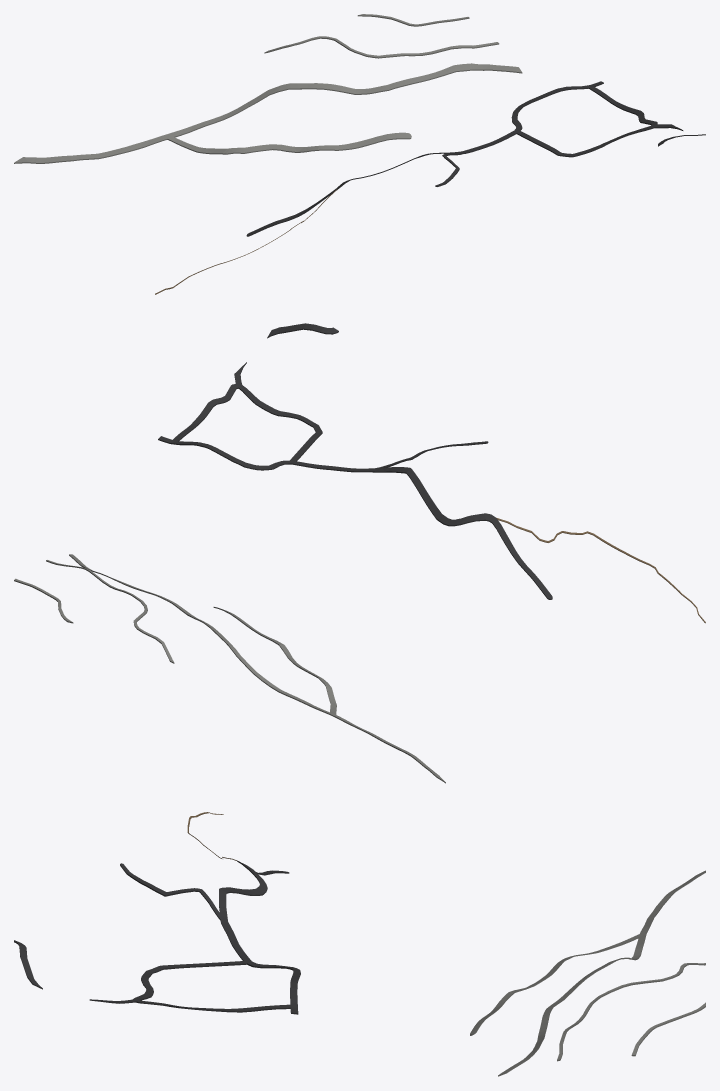
3 renders of one model, top to bottom at view 1: azimuth 30°, elevation 25°; view 2: azimuth 150°, elevation 25°; view 3: azimuth 270°, elevation 25°, orthographic. The views are drawn at different scales.
Size of the model in its own units: 587 by 153 by 583.
